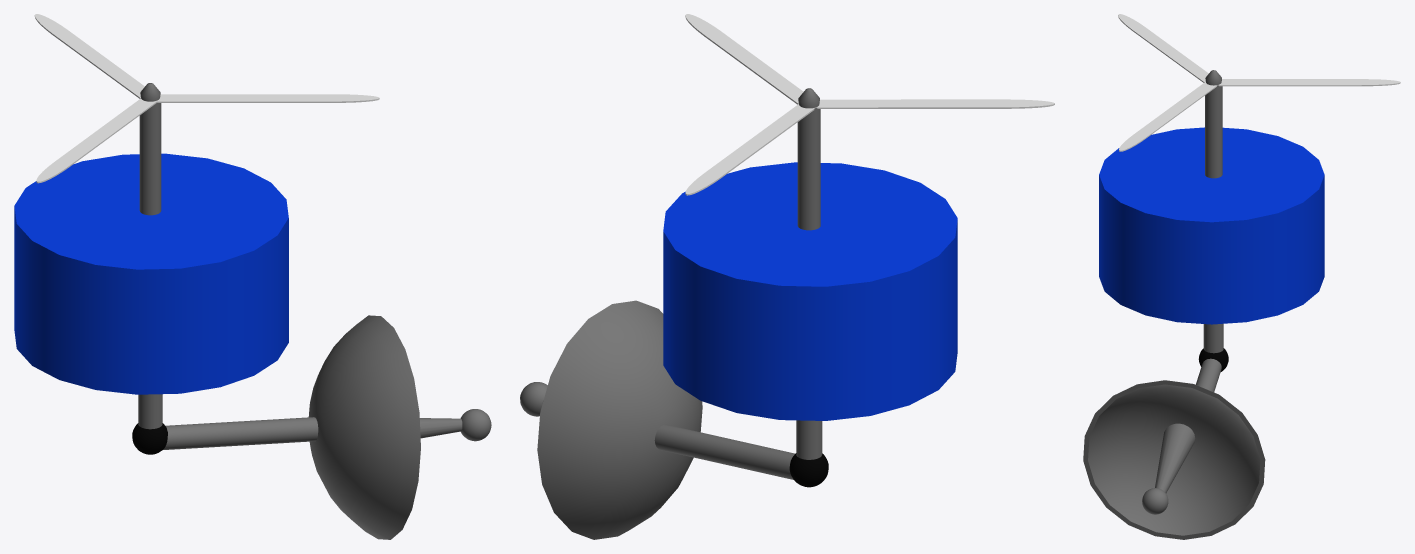
File: jamming.fbx
3 views of the same model, side by side, from view 1: azimuth 30°, elevation 25°; view 2: azimuth 150°, elevation 25°; view 3: azimuth 270°, elevation 25° (orthographic). The views are drawn at different scales.
Parts seen in each view (by area): view 1: jamming, puropera; view 2: jamming, puropera; view 3: jamming, puropera.
Boxes of the visible parts, <box> form: jamming: <box>14,83,491,539</box>; puropera: <box>34,14,379,183</box>; jamming: <box>520,88,957,539</box>; puropera: <box>685,14,1054,195</box>; jamming: <box>1083,70,1324,539</box>; puropera: <box>1118,14,1400,151</box>.
Size of the model in its own units: 1.78 by 1.72 by 1.26.
